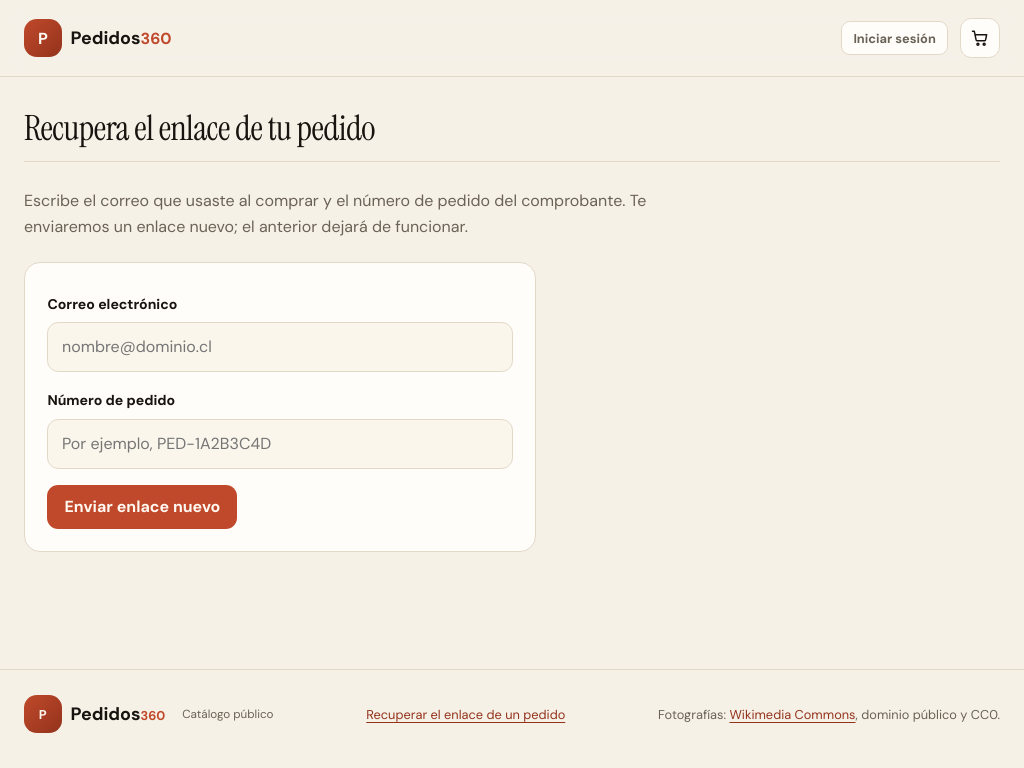
Test: GuestLinkRequestPage › valida el correo y el número antes de enviar
Click the button "Enviar enlace nuevo" at (142, 507), box [47,485,237,529]
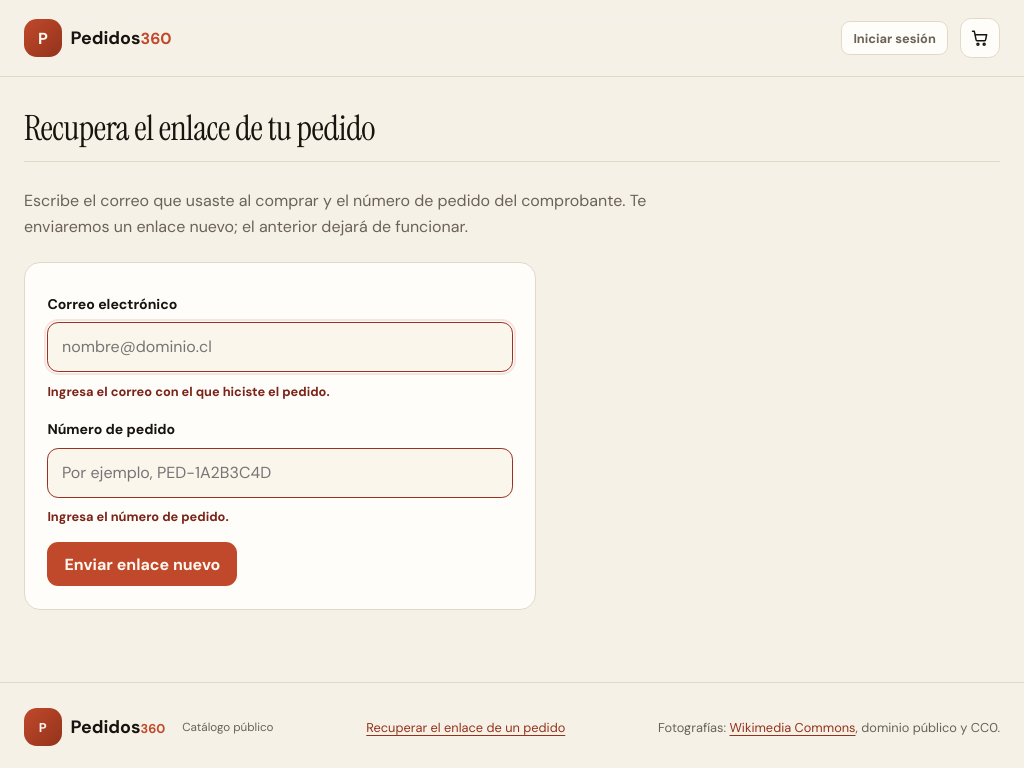
Now the text "Ingresa el correo con el que hiciste el pedido." is shown, box [47,383,330,400]
Now the text "Ingresa el número de pedido." is shown, box [47,508,229,525]
